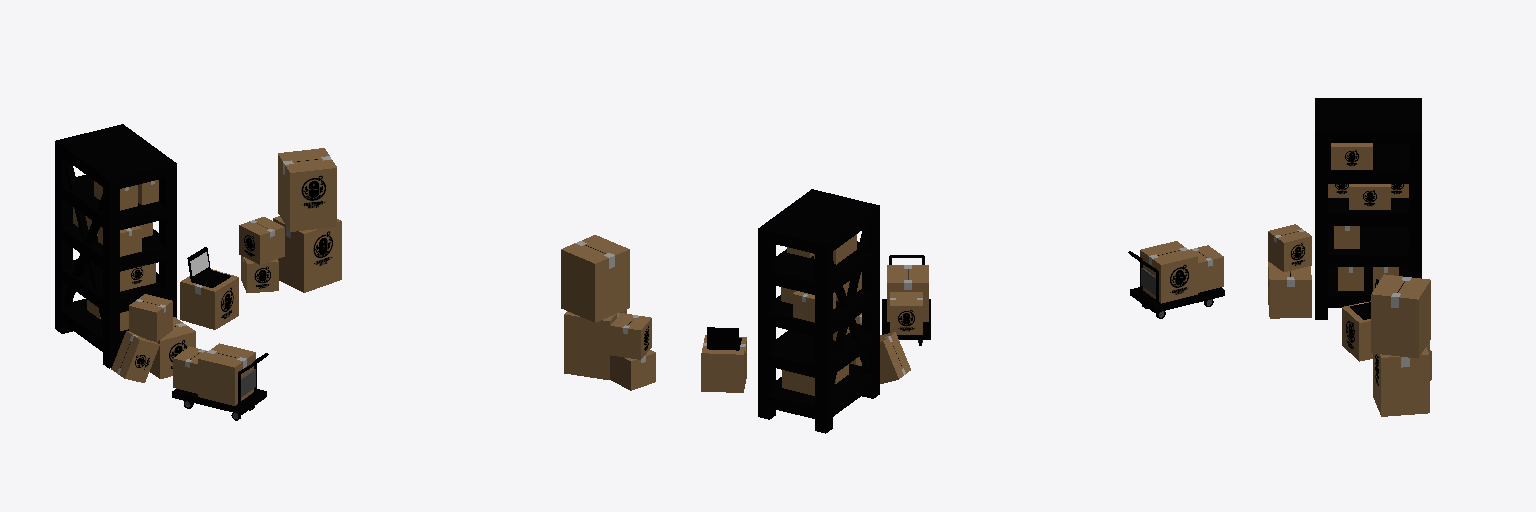
3 renders of one model, left to right at view 1: azimuth 30°, elevation 25°; view 2: azimuth 150°, elevation 25°; view 3: azimuth 270°, elevation 25°, orthographic.
Parts seen in each view (by area): view 1: Shelf, Box.015, Box.003, Box, Box.009, Box.017, Box.014, Box.013, Trolley, Box.012, Box.016, Box.002 (+2 smaller); view 2: Shelf, Box.015, Box.003, Box.009, Box.017, Box, Box.002, Box.016, Box.013, Laptop, Trolley, Box.007 (+1 smaller); view 3: Shelf, Box.015, Box.003, Box, Box.012, Box.014, Trolley, Box.009, Box.010, Box.002, Box.008, Box.004 (+1 smaller).
Boxes of the visible parts, box(x1,y1,x2,y2) form: Shelf: box(55, 124, 176, 368); Box.015: box(278, 148, 336, 231); Box.003: box(273, 216, 341, 292); Box: box(198, 343, 255, 405); Box.009: box(180, 269, 238, 329); Box.017: box(239, 217, 284, 264); Box.014: box(129, 294, 172, 341); Box.013: box(111, 331, 159, 382); Trolley: box(172, 353, 268, 420); Box.012: box(150, 317, 195, 378); Box.016: box(241, 256, 278, 292); Box.002: box(173, 346, 207, 393); Shelf: box(758, 189, 879, 433); Box.015: box(561, 235, 629, 322); Box.003: box(564, 310, 626, 379); Box.009: box(701, 335, 746, 392); Box.017: box(610, 313, 651, 359); Box: box(887, 265, 928, 321); Box.002: box(890, 292, 922, 334); Box.016: box(610, 350, 655, 390); Box.013: box(880, 332, 910, 383); Laptop: box(707, 327, 741, 350); Trolley: box(882, 255, 930, 345); Box.007: box(793, 291, 835, 322); Shelf: box(1315, 98, 1421, 319); Box.015: box(1371, 274, 1430, 358); Box.003: box(1373, 347, 1429, 416); Box: box(1140, 241, 1197, 303); Box.012: box(1268, 262, 1311, 318); Box.014: box(1268, 224, 1311, 271); Trolley: box(1128, 251, 1224, 318); Box.009: box(1342, 301, 1372, 361); Box.010: box(1331, 143, 1372, 169); Box.002: box(1190, 245, 1223, 292); Box.008: box(1349, 184, 1390, 209); Box.004: box(1338, 267, 1363, 290).
Size of the model in its own units: 19.58 by 12.86 by 18.62.
22 materials, 1 textured.